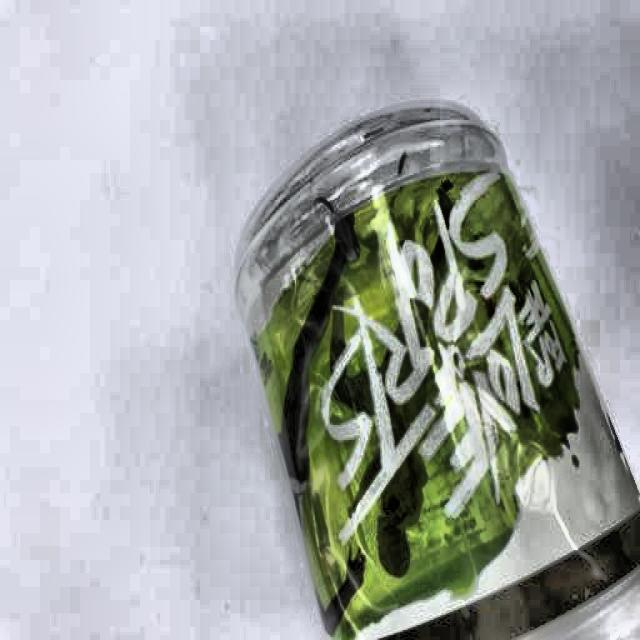plastic: (236, 100, 640, 640)
